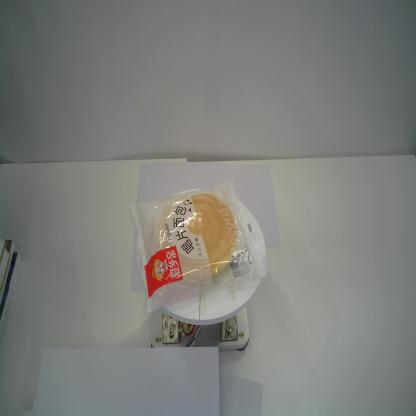Dessert: (128, 180, 270, 317)
